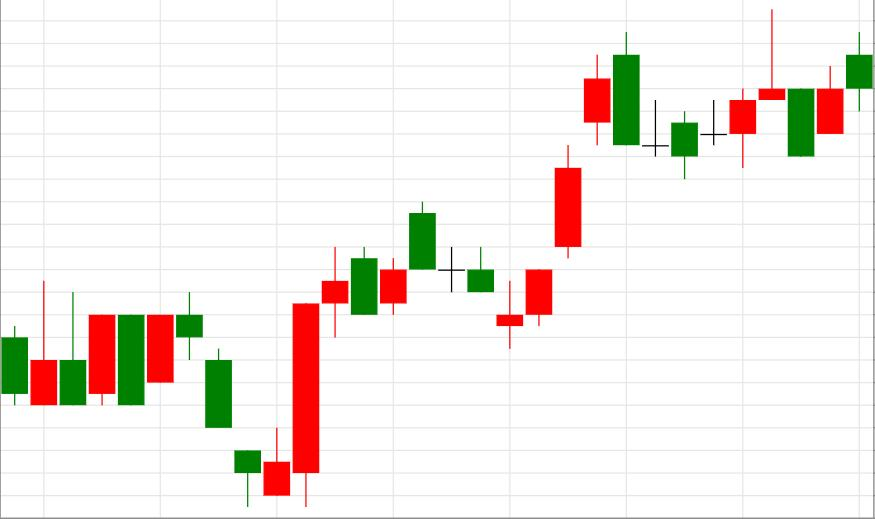bearish_engulfing_fall: (495, 32, 640, 348)
